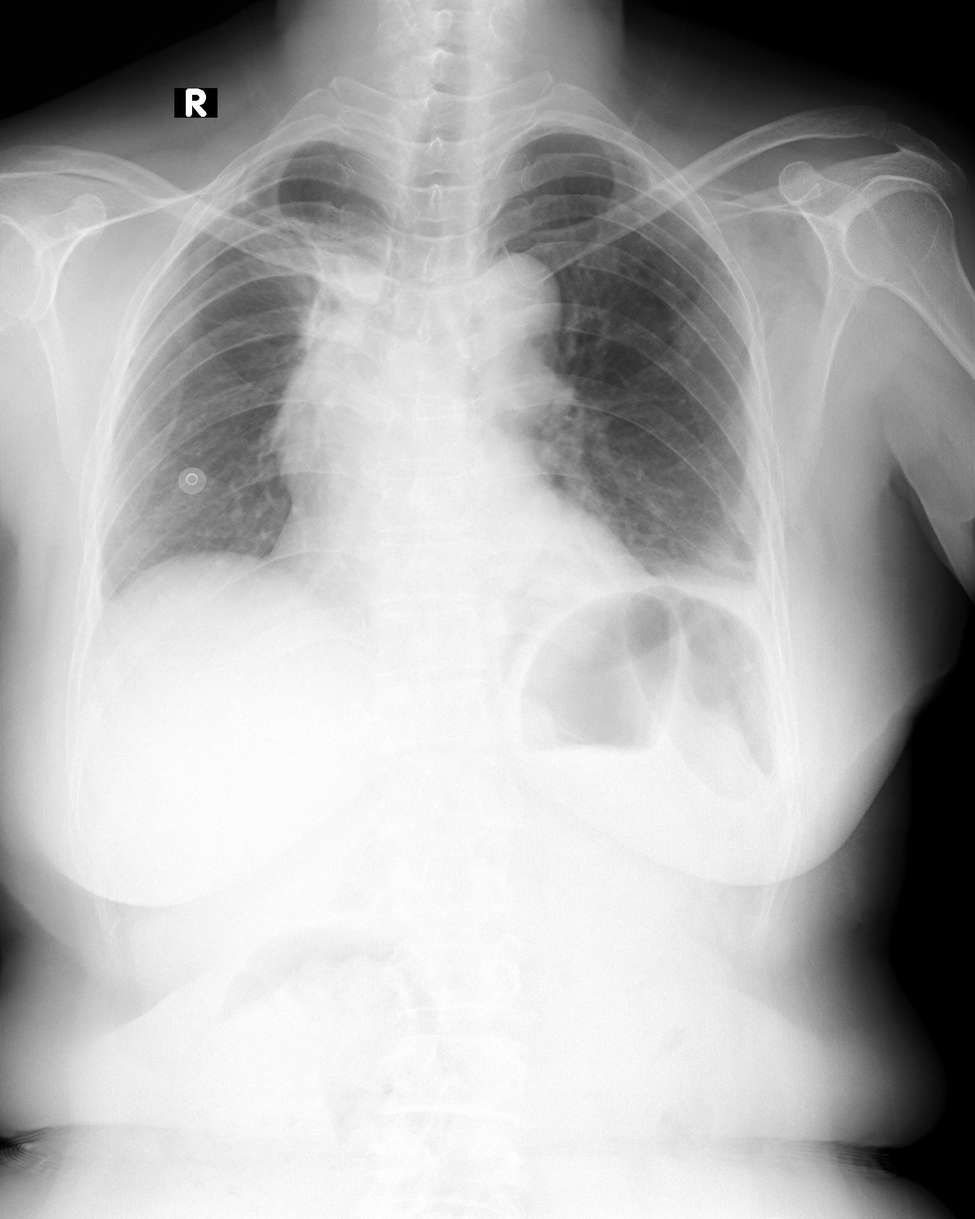Aortic enlargement: (443, 256, 557, 365)
Pleural thickening: (709, 514, 780, 632)
Pulmonary fibrosis: (236, 191, 315, 314), (687, 539, 755, 576)
